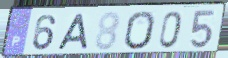0: (158, 10, 184, 49)
5: (187, 8, 219, 50)
6: (32, 14, 57, 51)
8: (93, 10, 122, 53)
A: (56, 13, 90, 52)
O: (124, 10, 157, 51)
